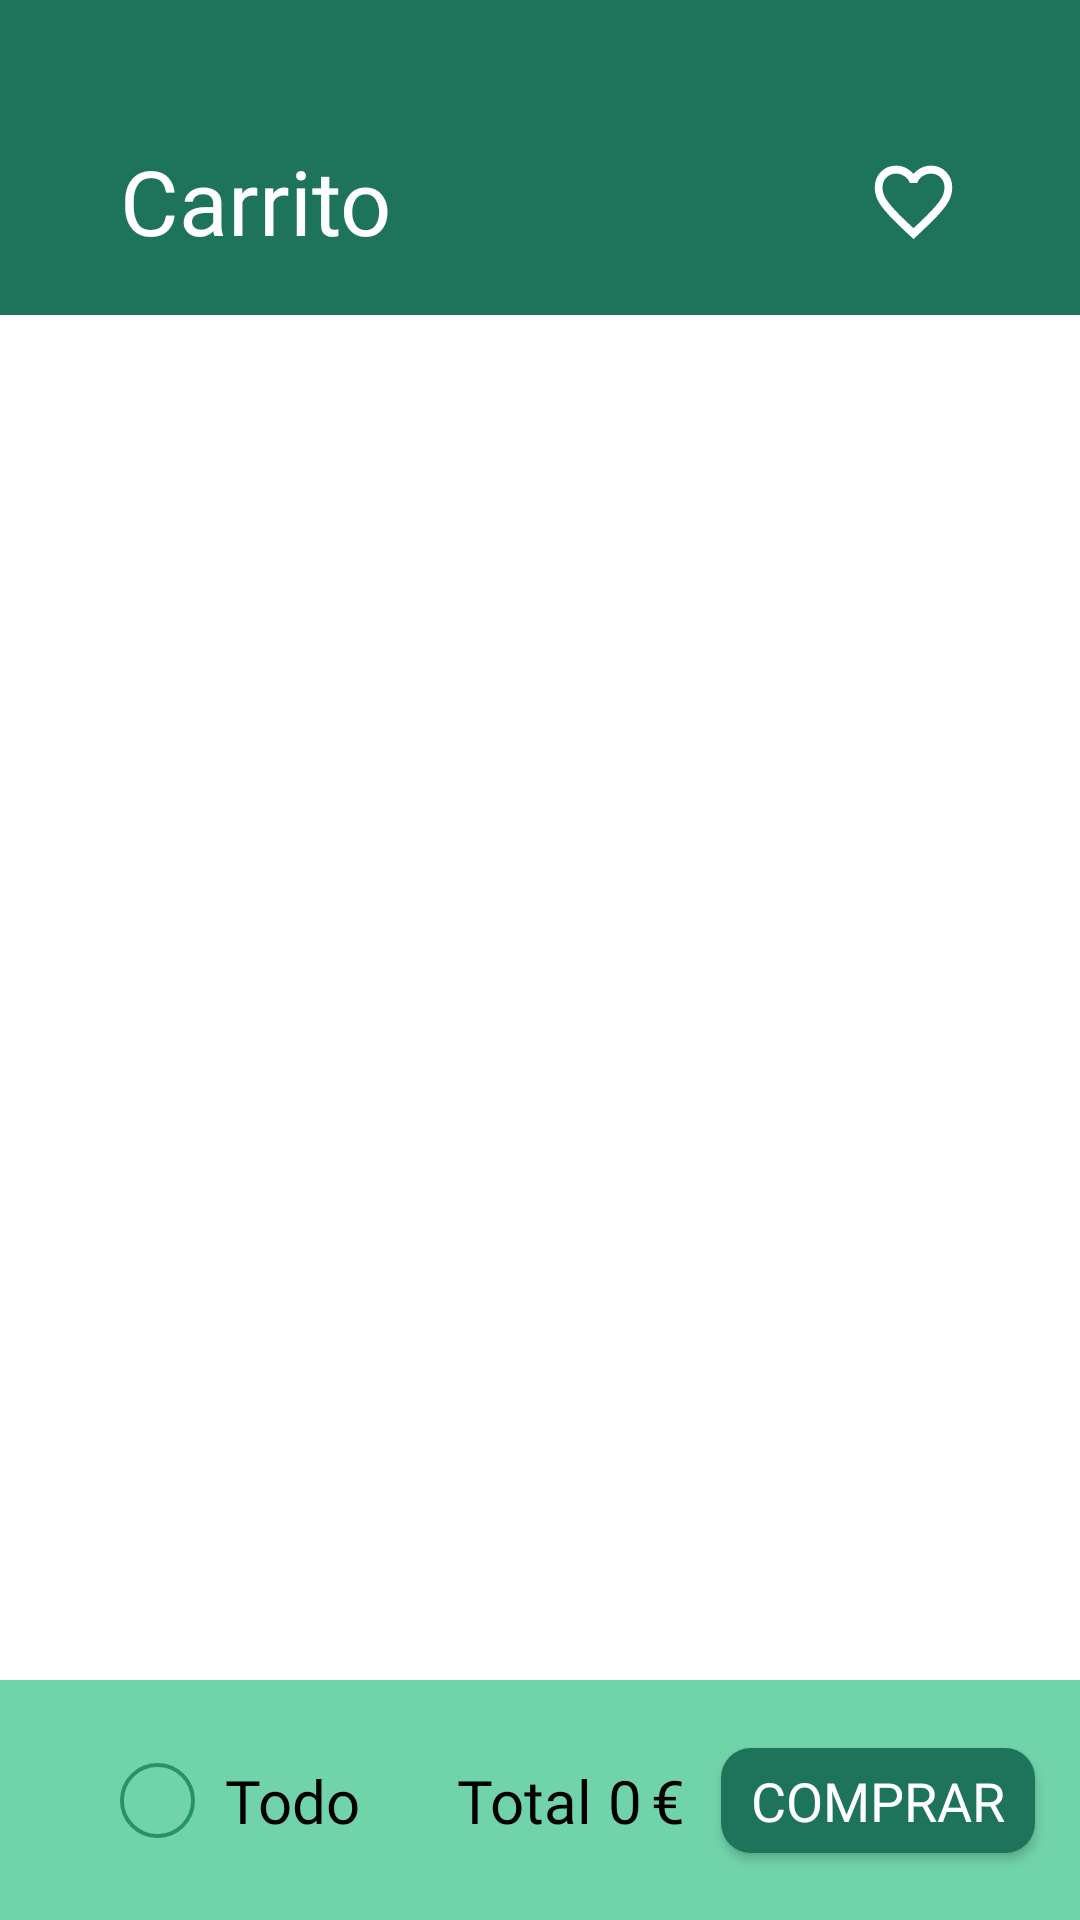

Point at icon controls on the screen. Image size 1080 × 1920, points as point (x, y).
favorite: point (913, 202)
